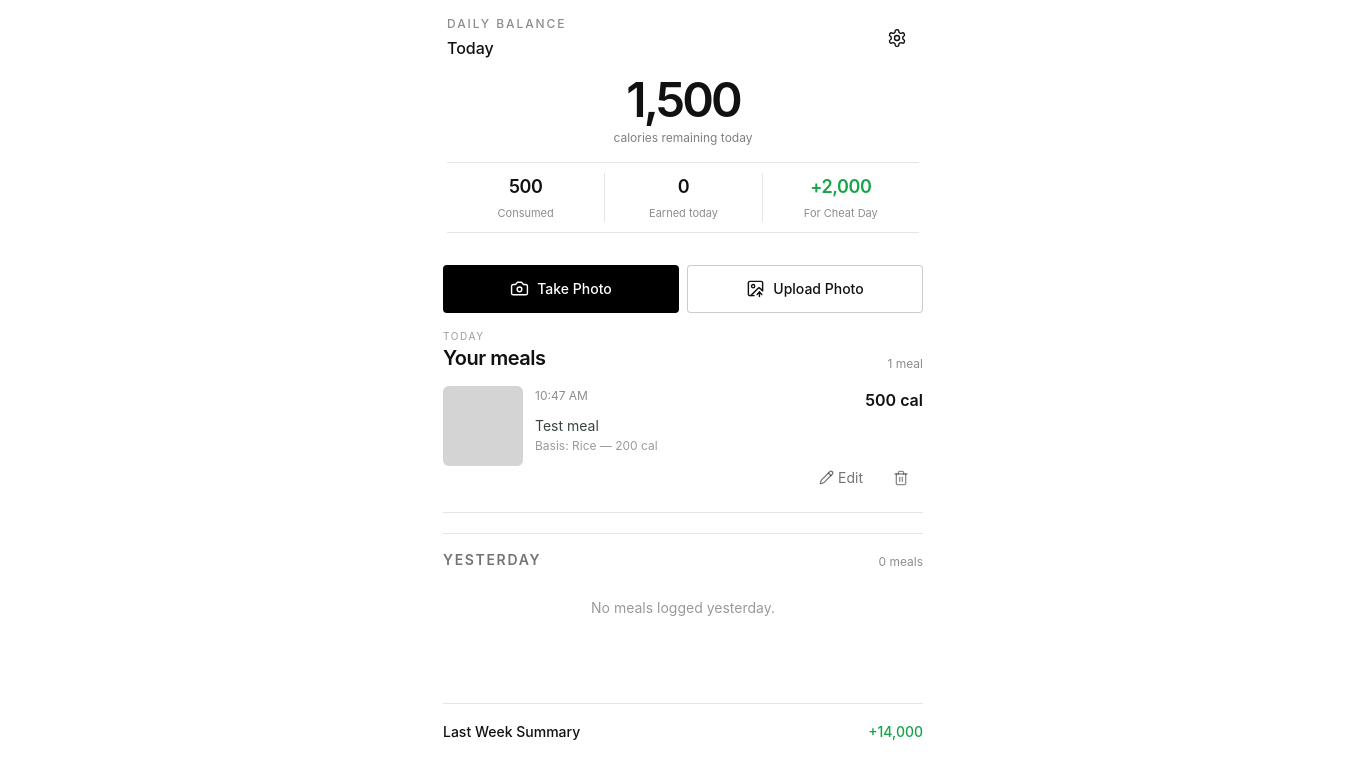
Test: Home meal persistence › shows the saved weekly weight progression
Expected: the text "Test meal" is shown, [535,416,599,434]
What coordinates should you click on to do the following:
click the button "Last Week Summary +14,000"
I would click on:
 (512, 732)
Its box is [443,708,923,756].
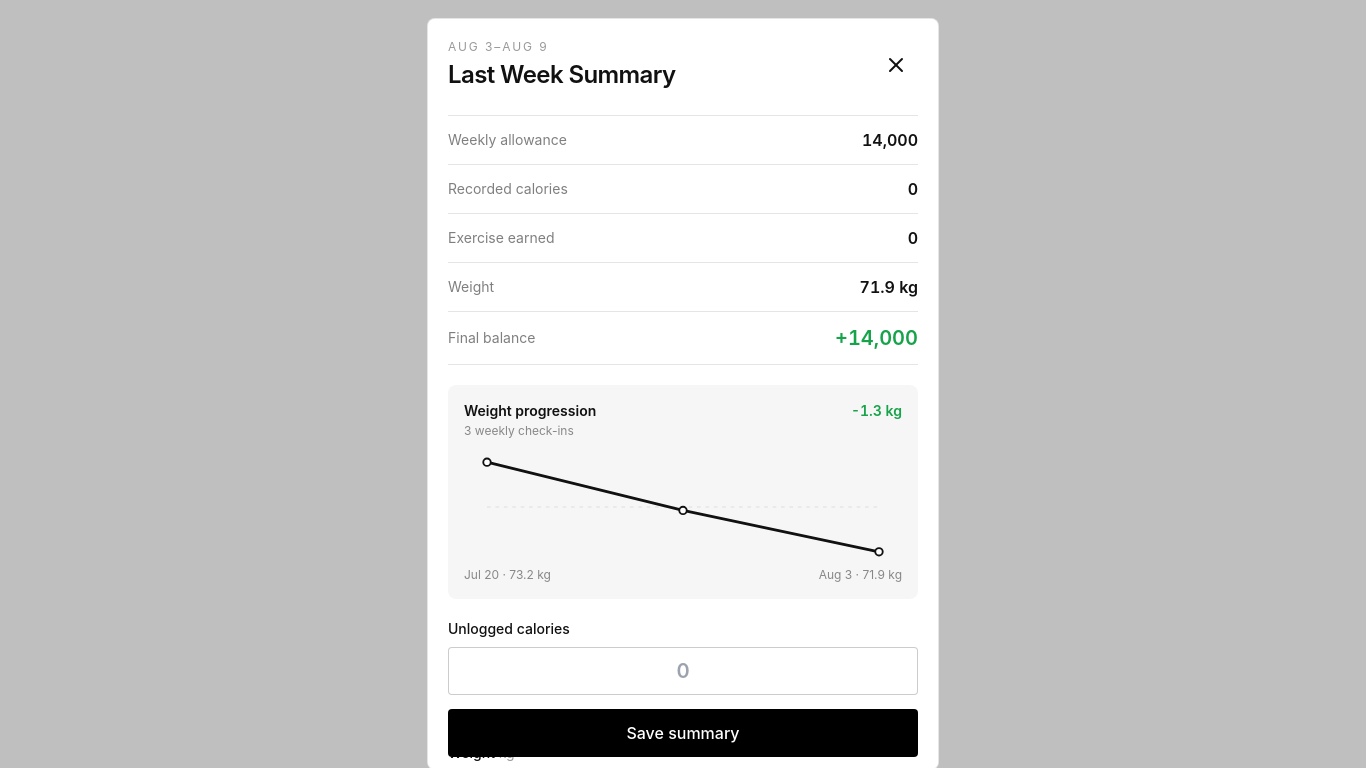
Now the element named "Overall weight trend" is shown, box [448,385,918,599]
Now the text "3 weekly check-ins" is shown, box [464,423,574,438]
Now the text "-1.3 kg" is shown, box [851,401,902,421]
